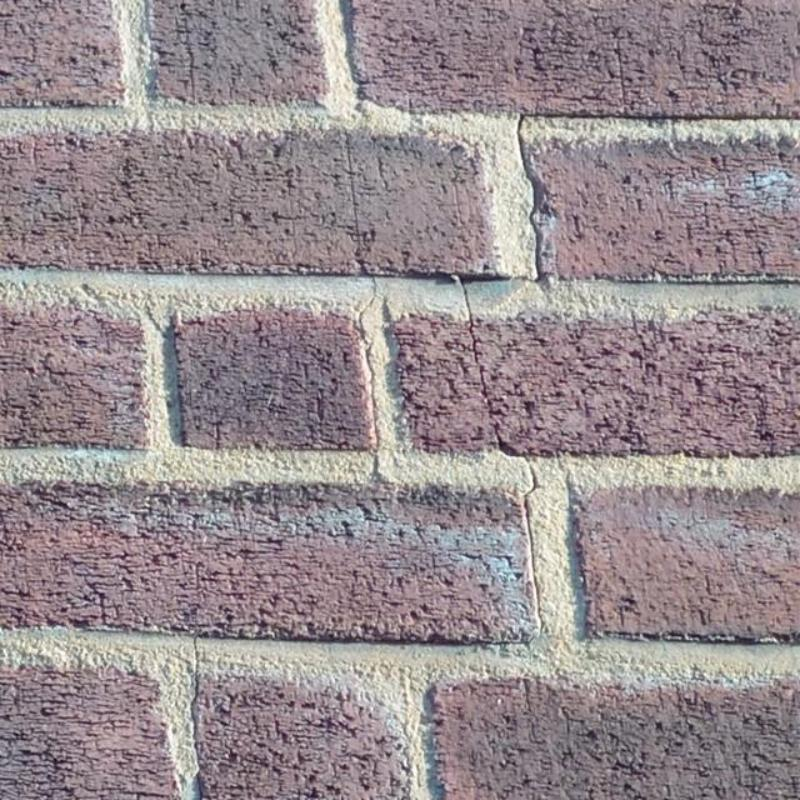pothole: (462, 114, 799, 282), (479, 365, 547, 638), (354, 275, 395, 485), (190, 635, 202, 799), (457, 277, 479, 366)
